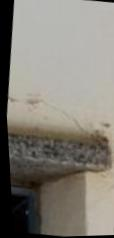crack: (7, 96, 83, 133)
